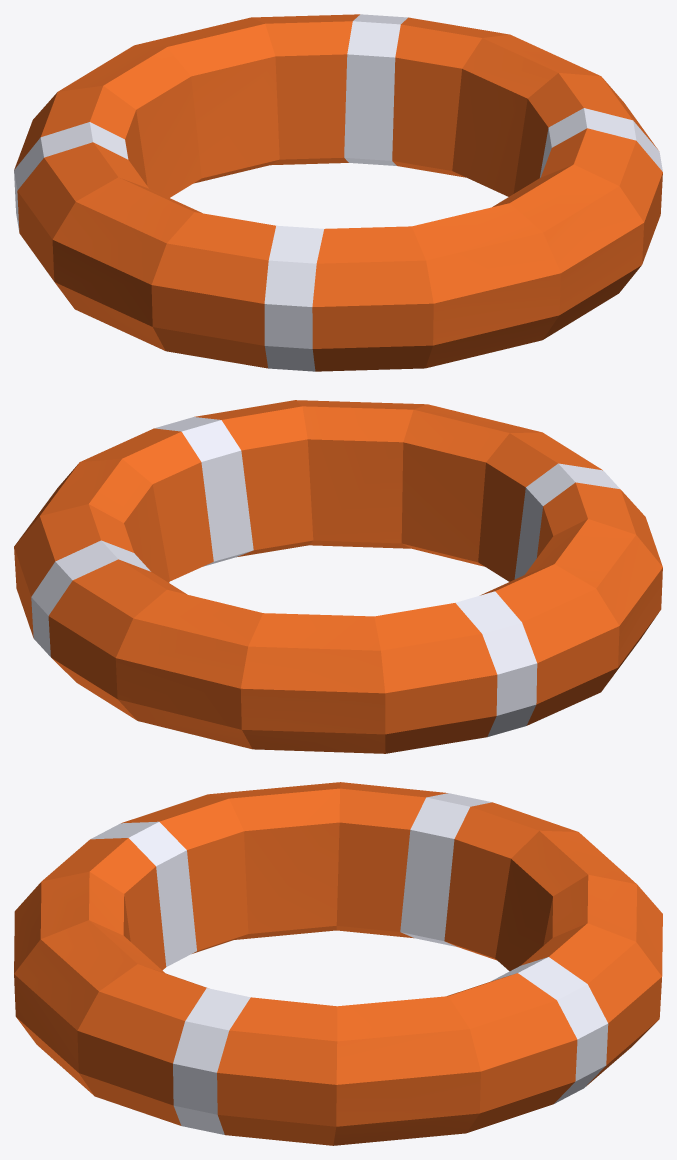
File: Life_buoy.fbx
3 renders of one model, top to bottom at view 1: azimuth 30°, elevation 25°; view 2: azimuth 150°, elevation 25°; view 3: azimuth 270°, elevation 25°, orthographic. The views are drawn at different scales.
Visible parts, largest first — view 1: Life_buoy; view 2: Life_buoy; view 3: Life_buoy.
Part boxes in pixels (bbox=[...]): Life_buoy: bbox=[14, 14, 662, 371]; Life_buoy: bbox=[14, 400, 662, 753]; Life_buoy: bbox=[14, 782, 662, 1145].
Size of the model in its own units: 92.79 by 20.89 by 90.58.
